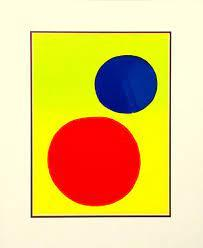blue_circle: (94, 53, 159, 115)
red_circle: (47, 113, 143, 208)
